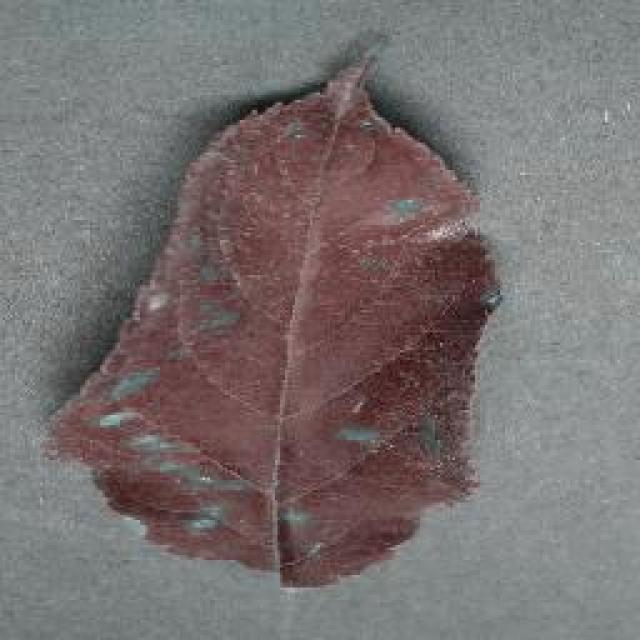apple cedar apple rust: (38, 42, 502, 590)
